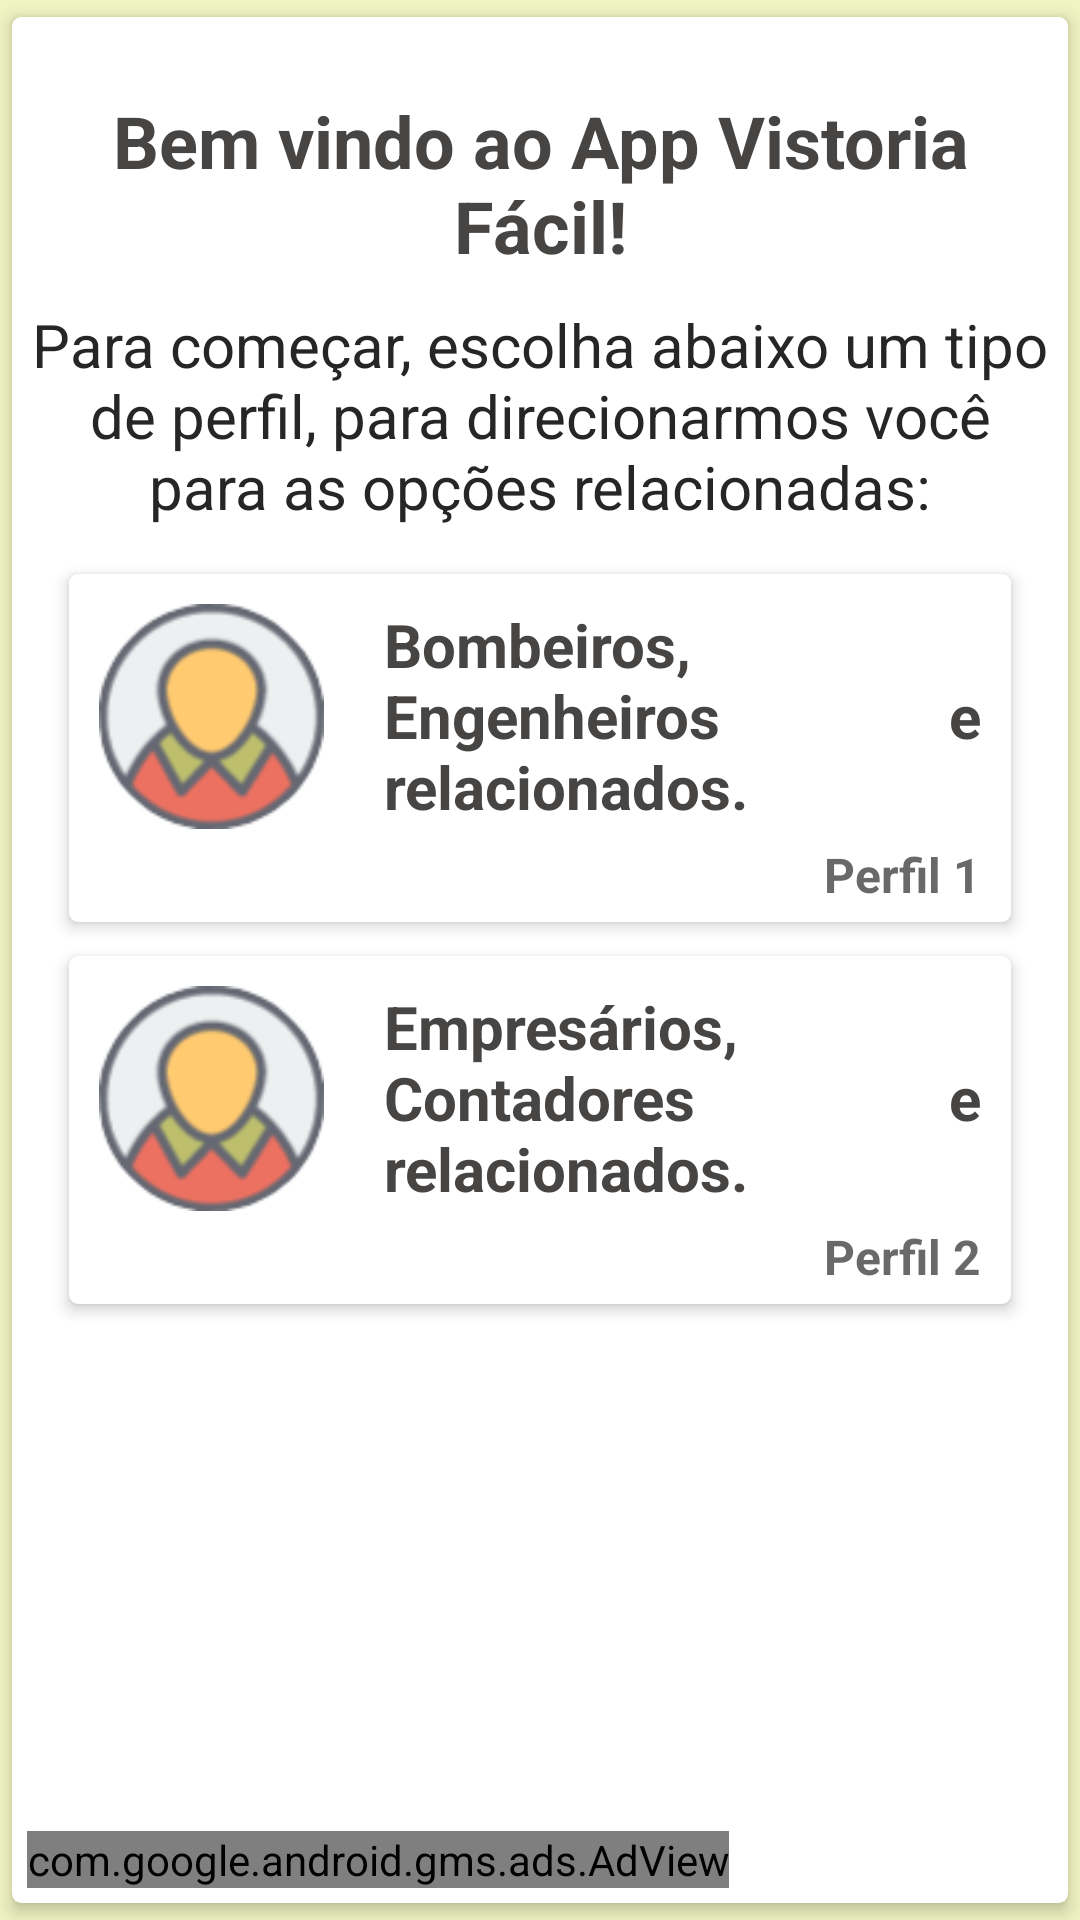

Point at icon controls on the screen. Image size 1080 × 1920, points as point (x, y).
user: point (211, 716), point (211, 1098)
